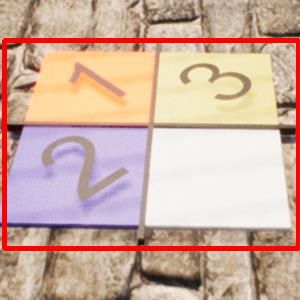nfpa: (4, 40, 298, 248)
